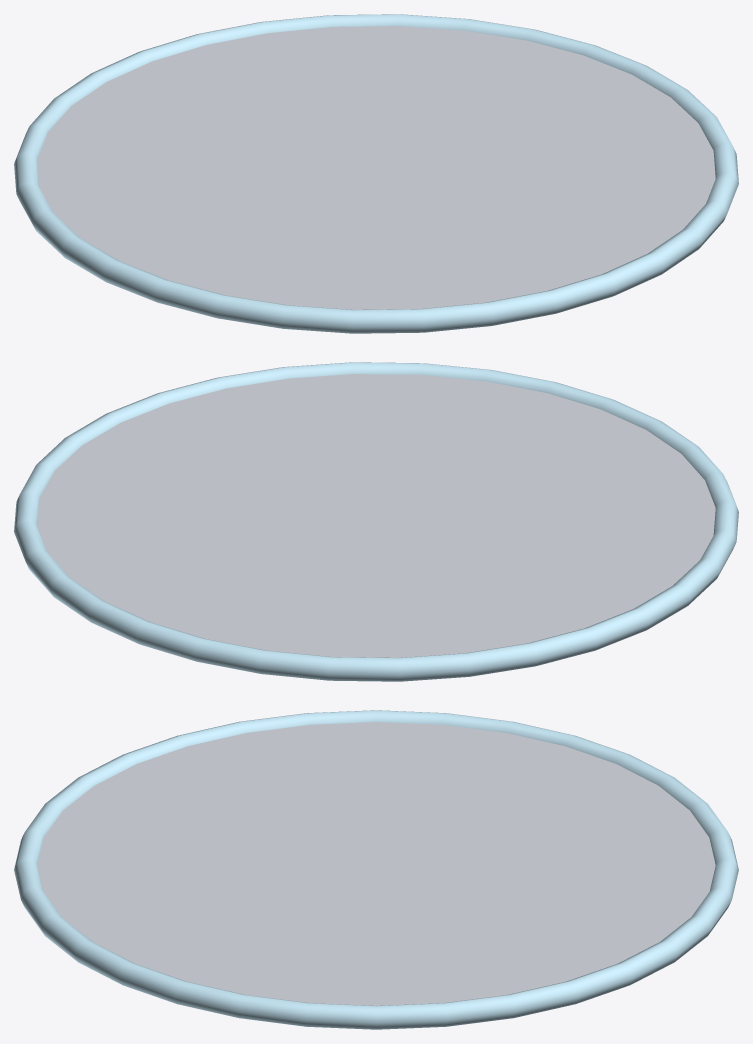
Rendered from roxy_left.glb.
3 renders of one model, top to bottom at view 1: azimuth 30°, elevation 25°; view 2: azimuth 150°, elevation 25°; view 3: azimuth 270°, elevation 25°, orthographic.
Visible parts, largest first — view 1: roxy_left; view 2: roxy_left; view 3: roxy_left.
Part boxes in pixels (x1,y1,x2,y2): roxy_left: (14,14,738,333); roxy_left: (14,362,738,681); roxy_left: (14,710,738,1029).
Bounding box in the file's own units: 0.86 × 0.03 × 0.86.
